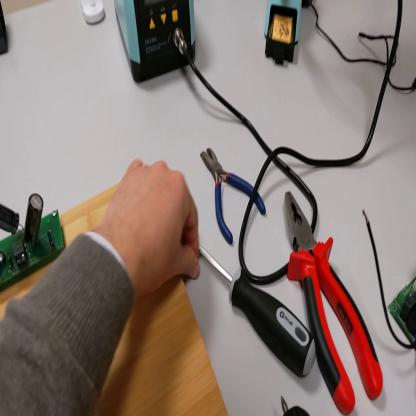hand: (103, 158, 207, 296)
high voltage board: (2, 193, 67, 292)
low voltage board: (363, 209, 416, 349)
pliers: (282, 191, 385, 416), (201, 142, 267, 243)
screwdriver-: (200, 246, 318, 385)
welder base: (265, 3, 305, 70)
welder station: (115, 2, 200, 87)
working area: (1, 176, 230, 416)
